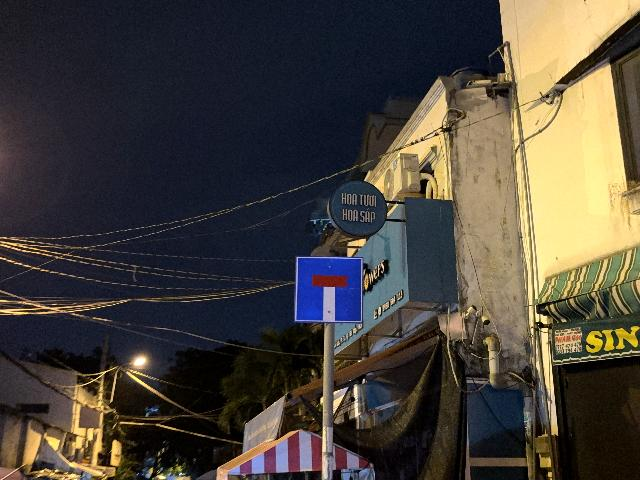duong-cut: (295, 256, 363, 323)
